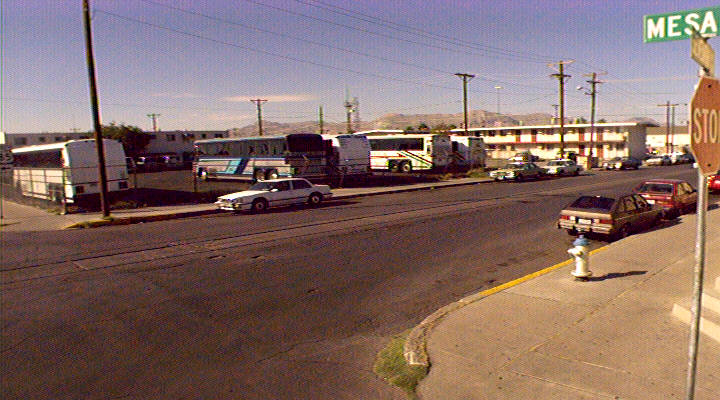Ramp: (392, 340, 615, 400), (1, 216, 78, 236)
